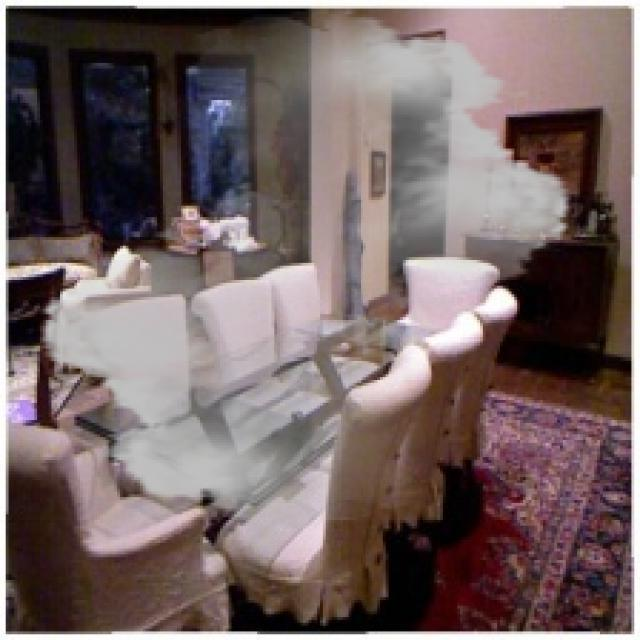Smoke: (22, 9, 588, 528)
